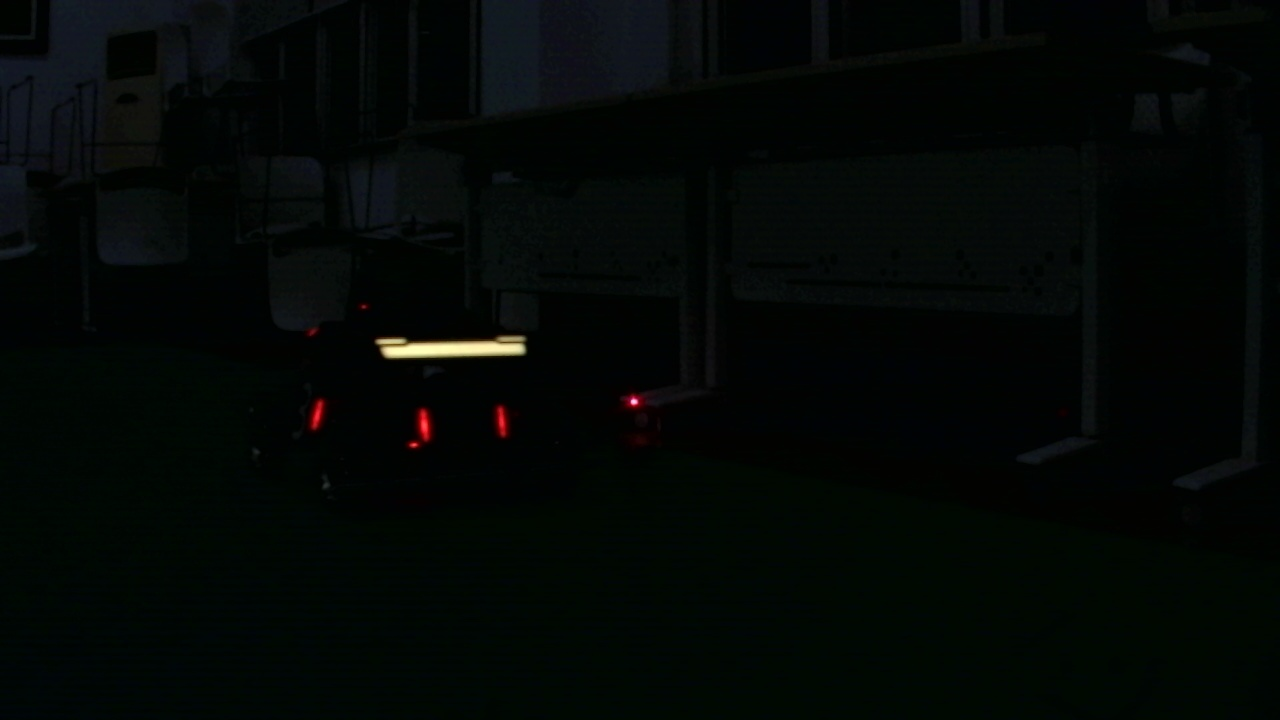lamp: (494, 402, 511, 438), (307, 399, 324, 429), (415, 407, 429, 442)
pair1: (415, 408, 511, 438)
